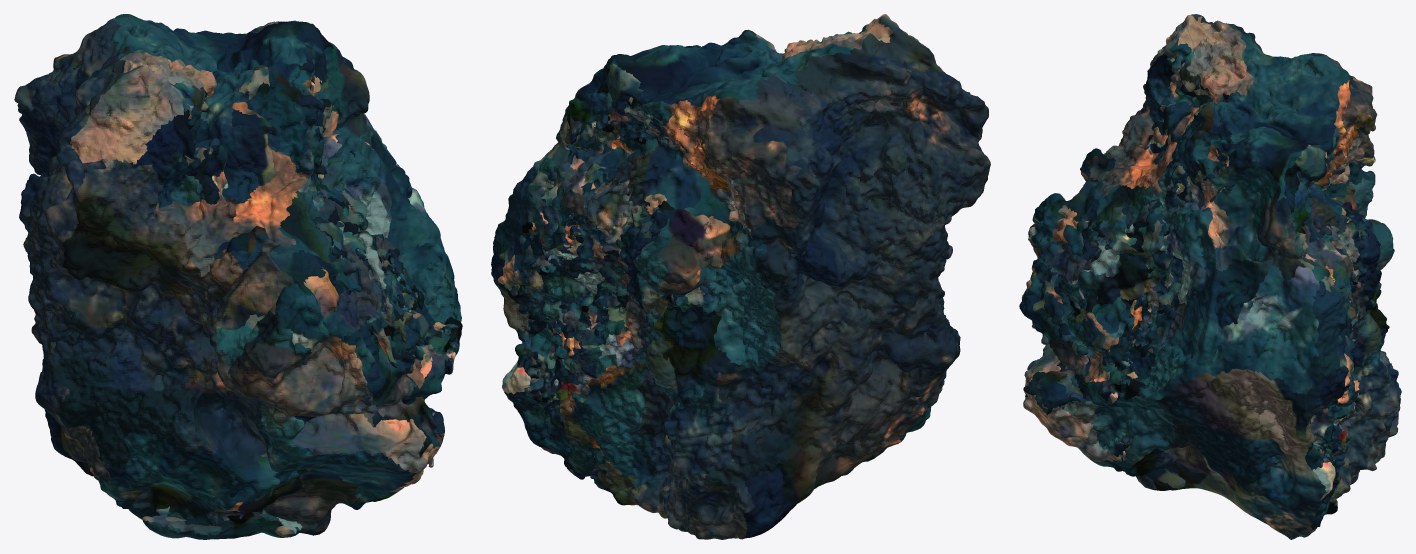
The model's file is azurite.glb.
3 views of the same model, side by side, from view 1: azimuth 30°, elevation 25°; view 2: azimuth 150°, elevation 25°; view 3: azimuth 270°, elevation 25° (orthographic). The views are drawn at different scales.
Parts seen in each view (by area): view 1: Object_2; view 2: Object_2; view 3: Object_2.
Boxes of the visible parts, x1,y1,x2,y2 form: Object_2: [14, 14, 462, 539]; Object_2: [491, 14, 990, 539]; Object_2: [1019, 14, 1401, 539].
Size of the model in its own units: 74.48 by 81.89 by 66.78.
Materials: 1 (1 with a texture image).
